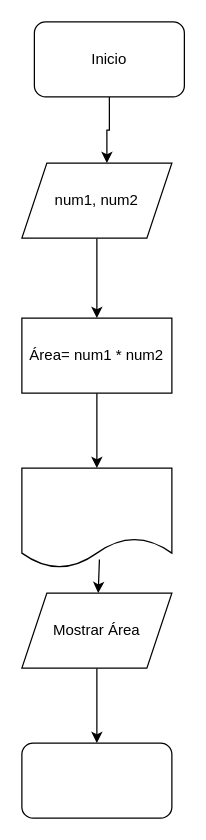
Image size: 206x840. Some labels were removed from this diagram. Each missing label, with the centre of its shape:
Fin: point (96, 780)
Área: point (96, 517)
